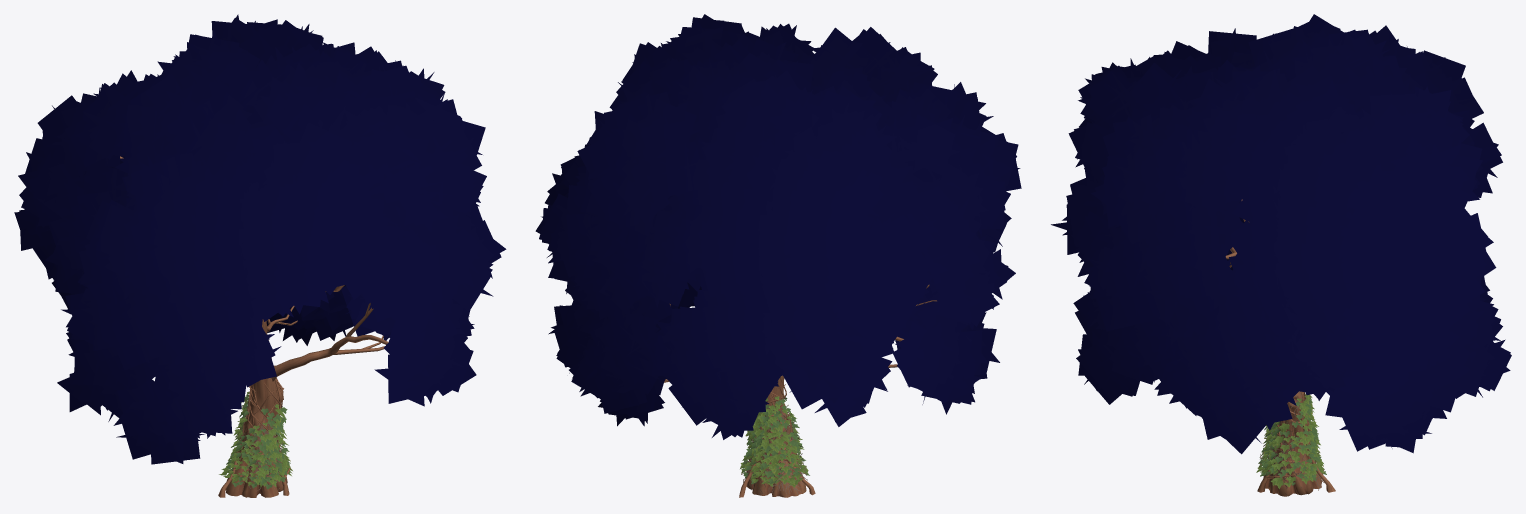
Rendered from SM_OakTree_01_Ivy.fbx.
3 renders of one model, left to right at view 1: azimuth 30°, elevation 25°; view 2: azimuth 150°, elevation 25°; view 3: azimuth 270°, elevation 25°, orthographic. The views are drawn at different scales.
Visible parts, largest first — view 1: SM_OakTree_01_Ivy_LOD0; view 2: SM_OakTree_01_Ivy_LOD0; view 3: SM_OakTree_01_Ivy_LOD0.
Boxes of the visible parts, bbox=[...] form: SM_OakTree_01_Ivy_LOD0: bbox=[14, 14, 506, 497]; SM_OakTree_01_Ivy_LOD0: bbox=[535, 14, 1021, 497]; SM_OakTree_01_Ivy_LOD0: bbox=[1051, 14, 1511, 496].
Size of what is drawn, in the model's own units: 1367 by 1356 by 1259.
